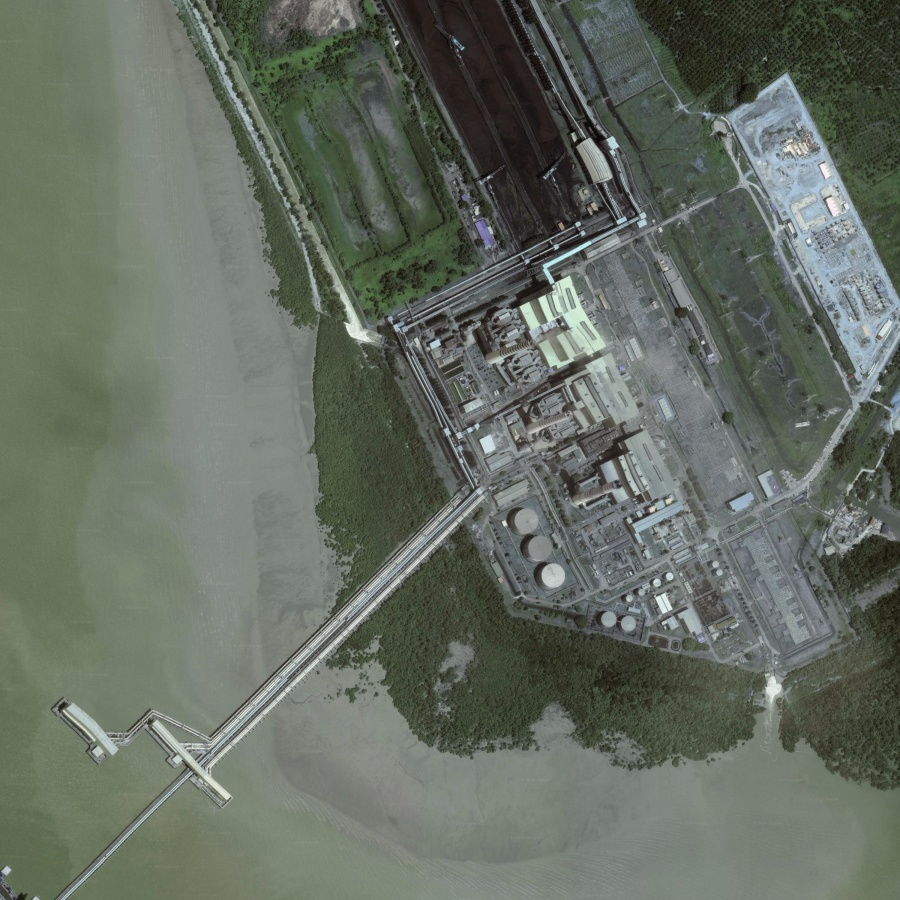PowerPlant: (410, 290, 775, 652)
